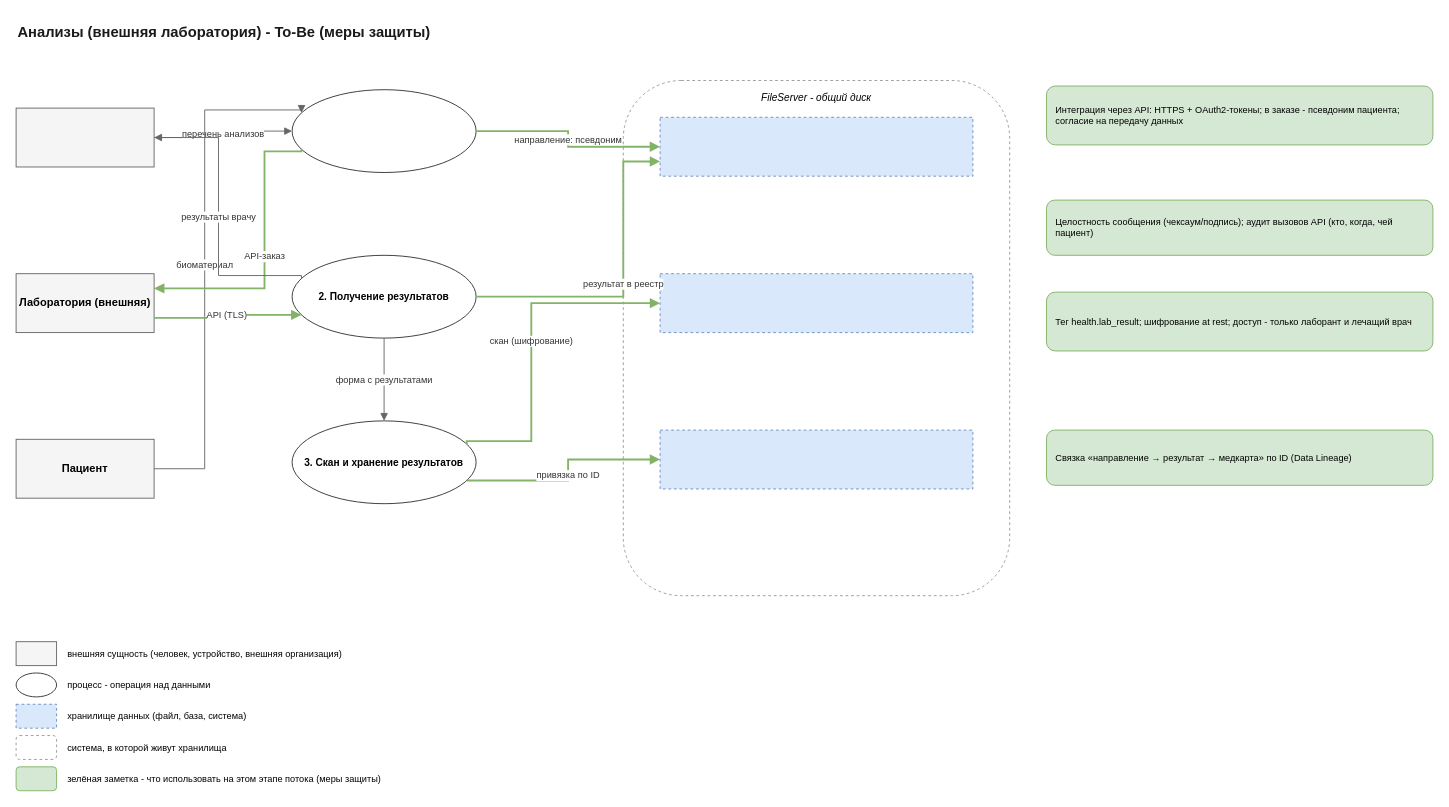
Some shapes in this 1449 by 807 pixel diagram are drawn without their labels. Here are the shapes that lost their labels. From the top down, the centre of each, then its label:
At (x=84, y=137): "Врач".
At (x=383, y=130): "1. Оформление направления".
At (x=816, y=146): "RegistryByDate (реестр анализов за день, Excel)".
At (x=816, y=303): "Сканы результатов (JPG/PDF)".
At (x=816, y=459): "Медкарта (файлы пациента)".
